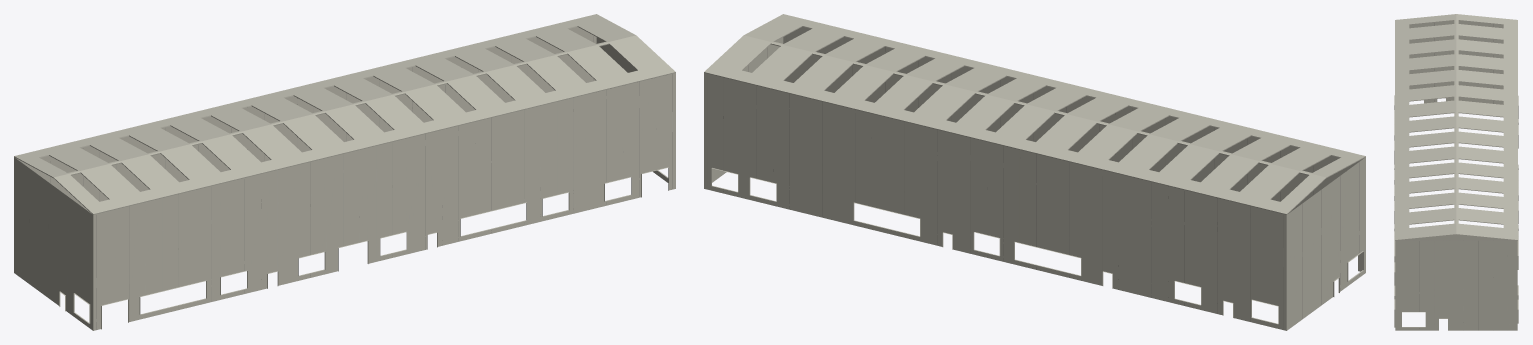
File: tianhuaban.glb
3 views of the same model, side by side, from view 1: azimuth 30°, elevation 25°; view 2: azimuth 150°, elevation 25°; view 3: azimuth 270°, elevation 25° (orthographic). The views are drawn at different scales.
Visible parts, largest first — view 1: Line001, 对象001; view 2: Line001, 对象001; view 3: 对象001, Line001, Line002.
Boxes of the visible parts, box(x1,y1,x2,y2) form: Line001: box(14, 27, 675, 330); 对象001: box(14, 14, 675, 214); Line001: box(704, 27, 1365, 330); 对象001: box(704, 14, 1365, 214); 对象001: box(1395, 14, 1517, 240); Line001: box(1394, 20, 1518, 330); Line002: box(1398, 235, 1514, 240).
Size of the model in its own units: 107 by 21.69 by 25.4.
2 materials, 1 textured.
